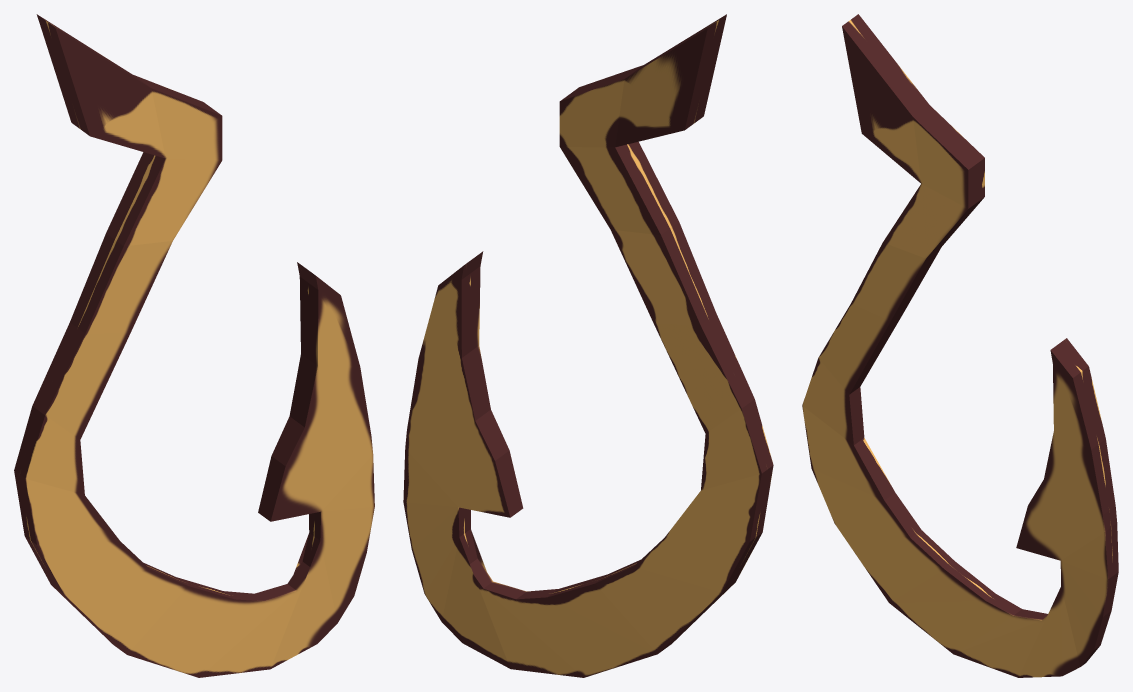
Rendered from hook.glb.
3 renders of one model, left to right at view 1: azimuth 30°, elevation 25°; view 2: azimuth 150°, elevation 25°; view 3: azimuth 330°, elevation 25°, orthographic. The views are drawn at different scales.
Visible parts, largest first — view 1: Cube; view 2: Cube; view 3: Cube.
Part boxes in pixels (x1,y1,x2,y2): Cube: [14, 14, 374, 677]; Cube: [403, 14, 773, 677]; Cube: [802, 14, 1118, 677].
Size of the model in its own units: 1.86 by 3.5 by 0.2796.
Materials: 1 (1 with a texture image).
